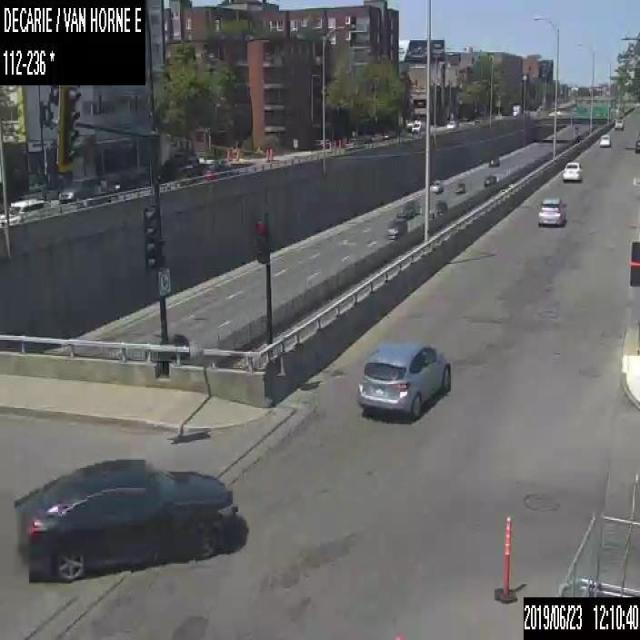construction: (492, 513, 520, 603), (268, 146, 272, 160), (227, 148, 231, 159), (236, 148, 239, 159), (338, 137, 340, 150), (266, 147, 268, 160), (333, 138, 335, 150)
vehicle: (14, 456, 237, 581), (354, 336, 451, 419), (2, 198, 47, 224), (386, 202, 416, 238), (536, 195, 568, 225), (57, 178, 94, 202), (561, 159, 582, 180), (411, 119, 425, 132), (598, 132, 610, 145), (434, 177, 444, 192), (455, 180, 467, 192), (434, 201, 446, 211), (510, 104, 520, 116), (488, 156, 501, 165), (614, 117, 624, 128), (484, 175, 496, 184), (446, 120, 456, 128)
